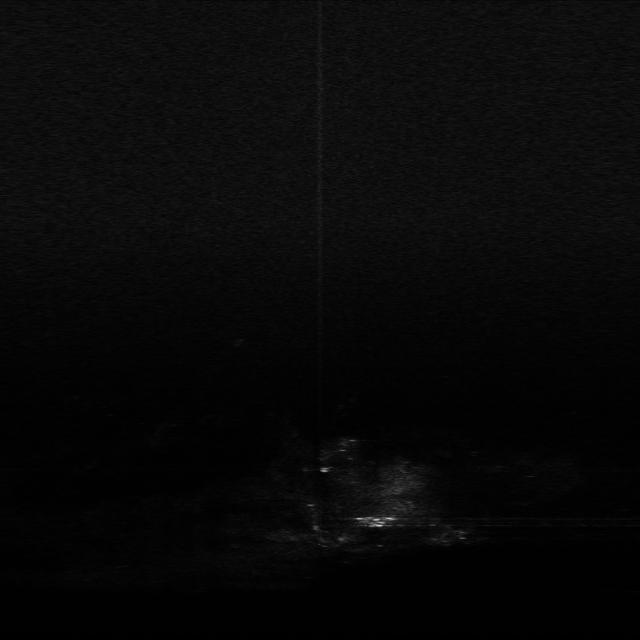rov: (356, 510, 396, 530)
